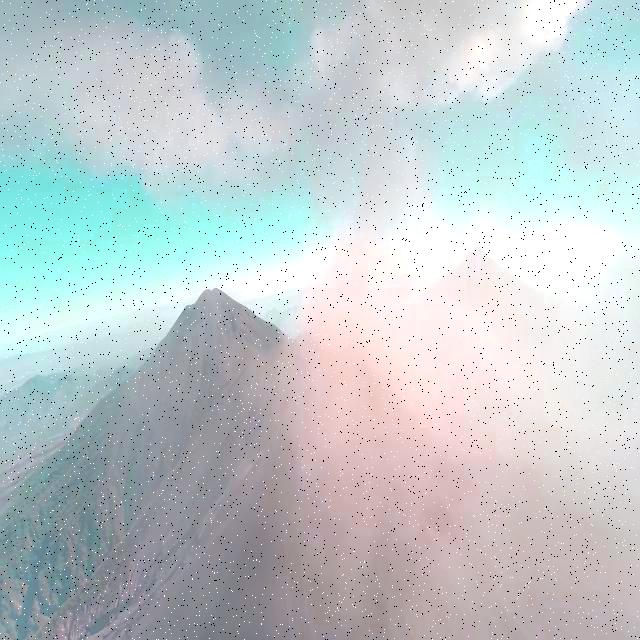Plume: (289, 226, 639, 640), (0, 0, 267, 221), (285, 0, 580, 133)
